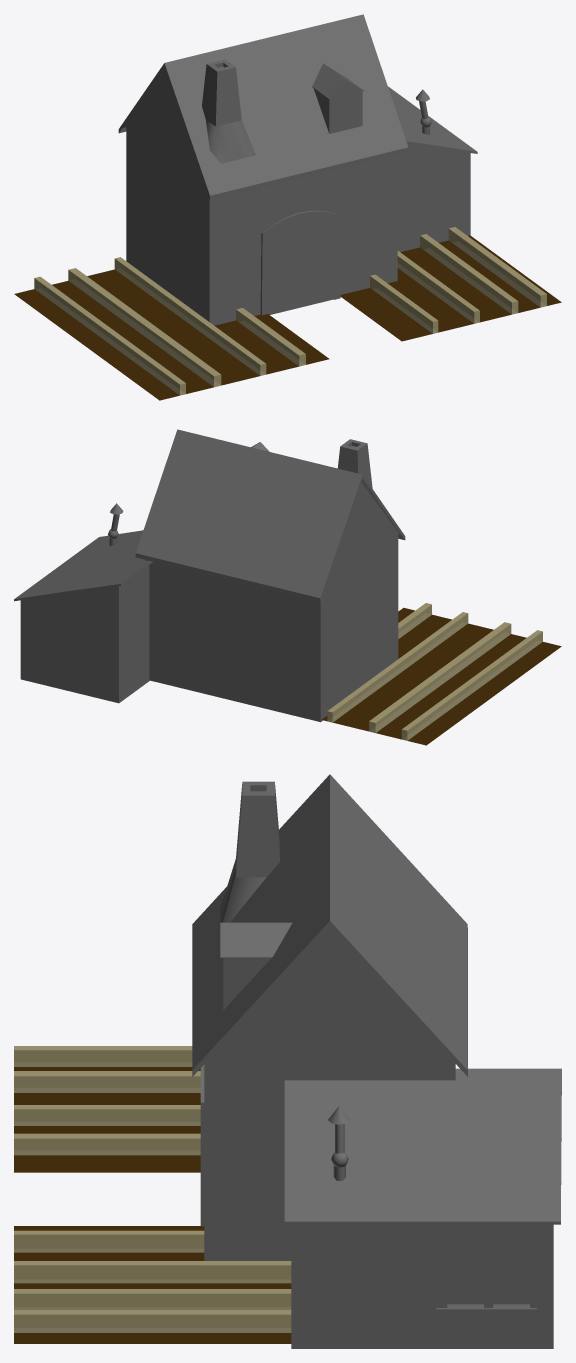
The model's file is Farm01.fbx.
The picture shows the model from 3 angles, top to bottom: view 1: azimuth 30°, elevation 25°; view 2: azimuth 150°, elevation 25°; view 3: azimuth 270°, elevation 25°; orthographic projection. The views are drawn at different scales.
Parts seen in each view (by area): view 1: Box172, pPlane3; view 2: Box172, pPlane3; view 3: Box172, pPlane3.
Boxes of the visible parts, left/top/right/bottom form: Box172: left=118, top=14, right=477, bottom=325; pPlane3: left=14, top=227, right=561, bottom=400; Box172: left=14, top=429, right=405, bottom=722; pPlane3: left=322, top=603, right=561, bottom=745; Box172: left=192, top=774, right=561, bottom=1348; pPlane3: left=14, top=1046, right=291, bottom=1343.
Bounding box in the file's own units: 206 × 118 × 159.
